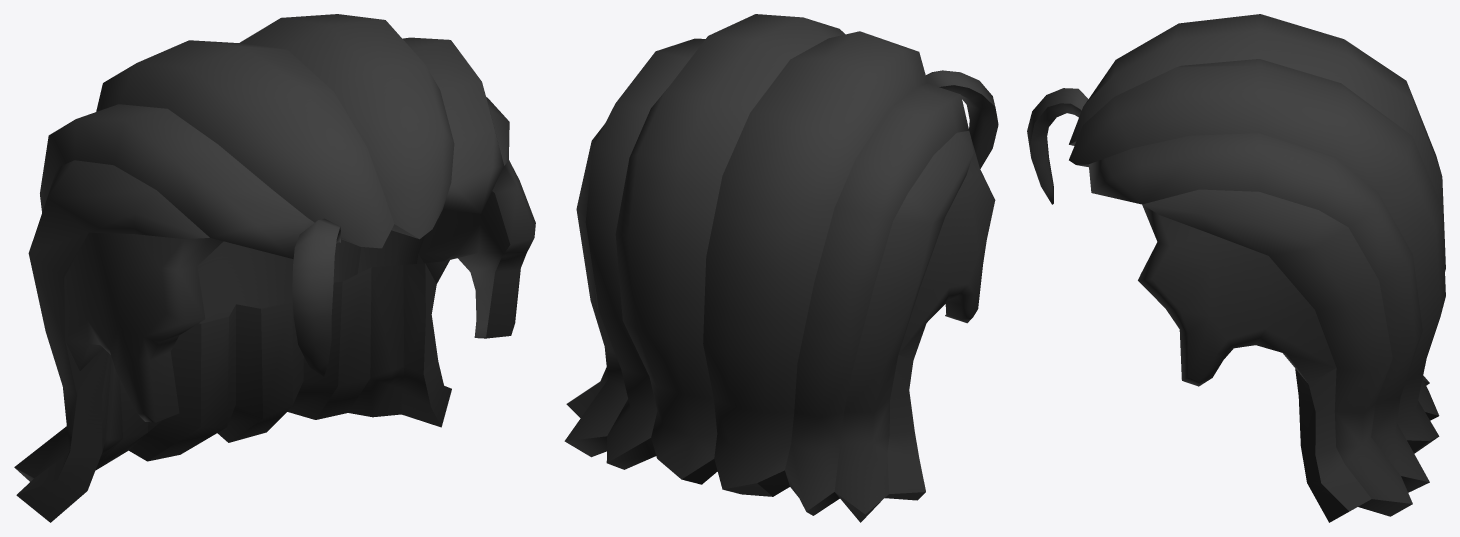
Rendered from Hair_20.fbx.
3 renders of one model, left to right at view 1: azimuth 30°, elevation 25°; view 2: azimuth 150°, elevation 25°; view 3: azimuth 270°, elevation 25°, orthographic. The views are drawn at different scales.
Parts seen in each view (by area): view 1: Hair_20; view 2: Hair_20; view 3: Hair_20.
Part boxes in pixels (left/top/right/bottom): Hair_20: left=14, top=14, right=535, bottom=522; Hair_20: left=564, top=14, right=998, bottom=522; Hair_20: left=1027, top=14, right=1445, bottom=522.
Bounding box in the file's own units: 58.08 × 60.75 × 57.42.
